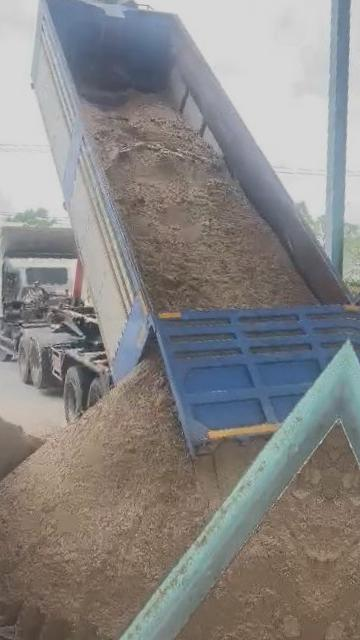sand: (0, 358, 259, 640), (85, 93, 315, 310), (172, 433, 337, 640), (0, 396, 42, 544)
